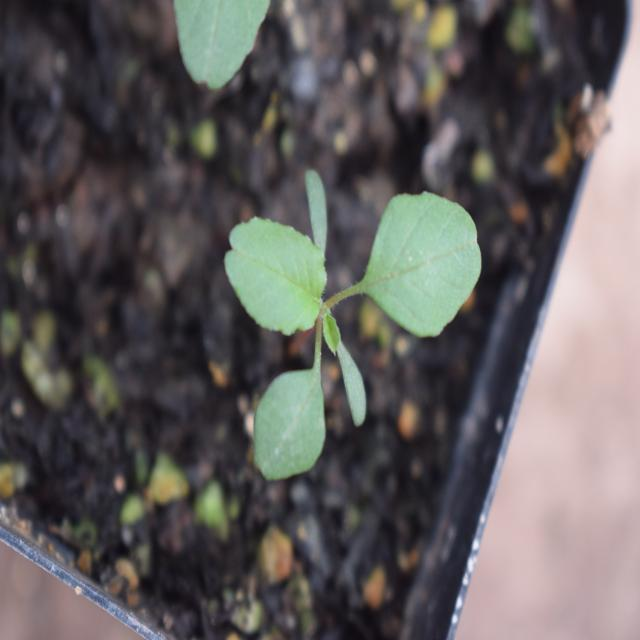pigweed: (199, 174, 494, 490)
